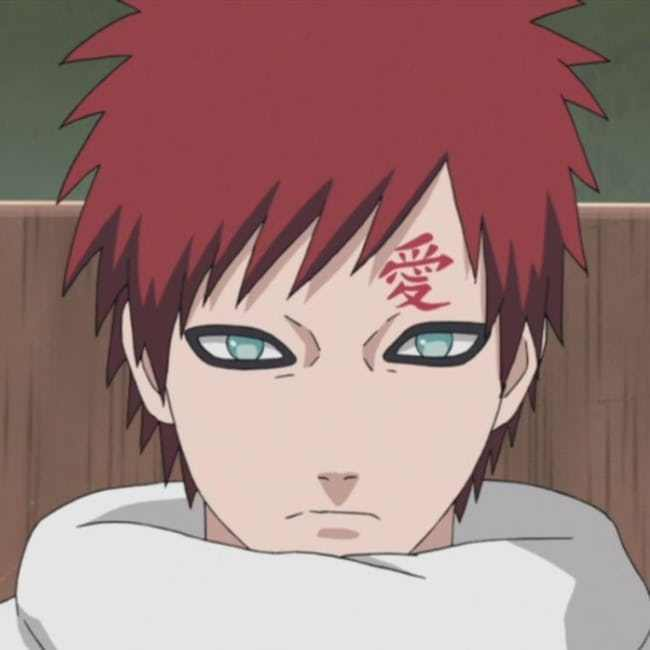gaara: (115, 151, 556, 563)
